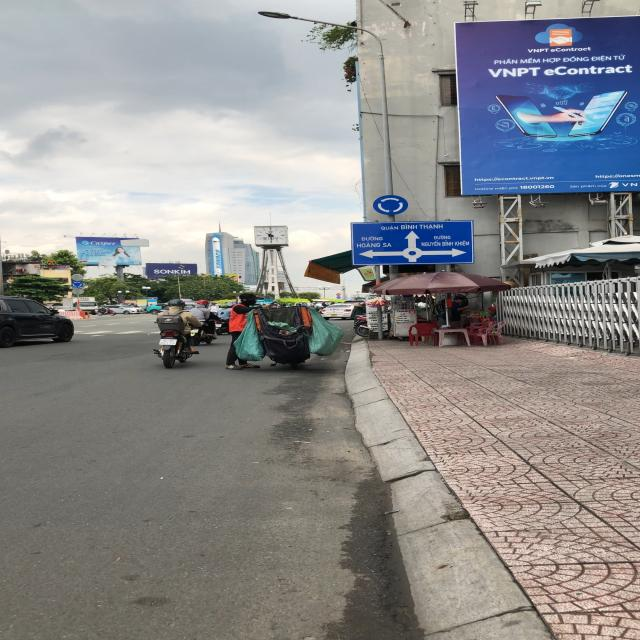Bien bao noi giao nhau chay theo vong xuyen: (370, 193, 415, 218), (68, 280, 86, 289)
